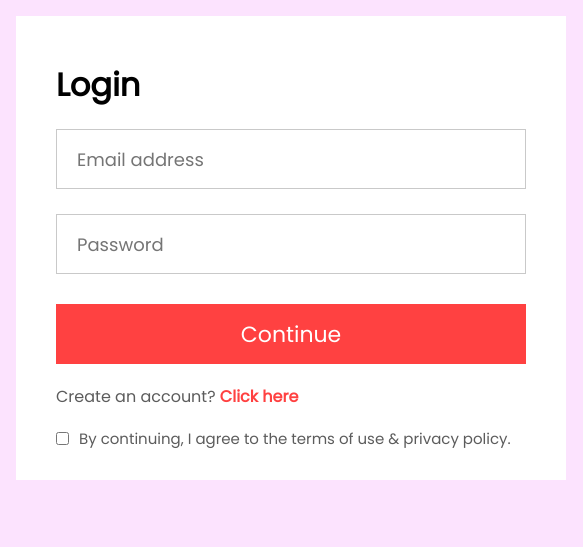
Test: LoginSignup Component › validates email input
Test invalid email
Step 1. Type "invalidemail" into the field with placeholder "Email address" → point(291, 159), box [56,129,526,189]
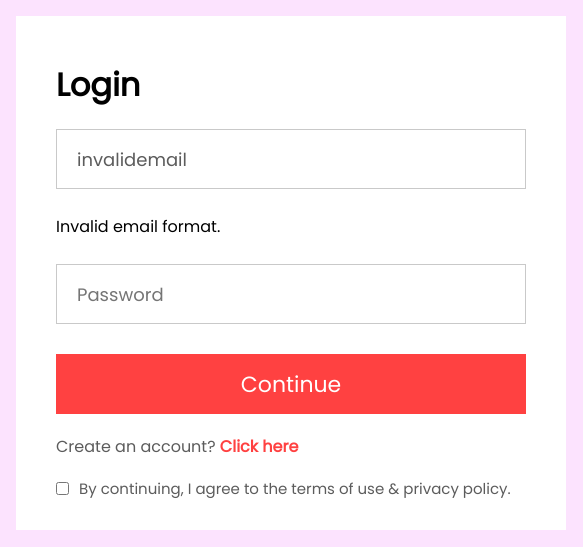
Result: the text "Invalid email format." is shown at [56,215,220,238]
Test valid email
Step 2. Replace the text in the field with placeholder "Email address" with "valid@example.com" → point(291, 159), box [56,129,526,189]
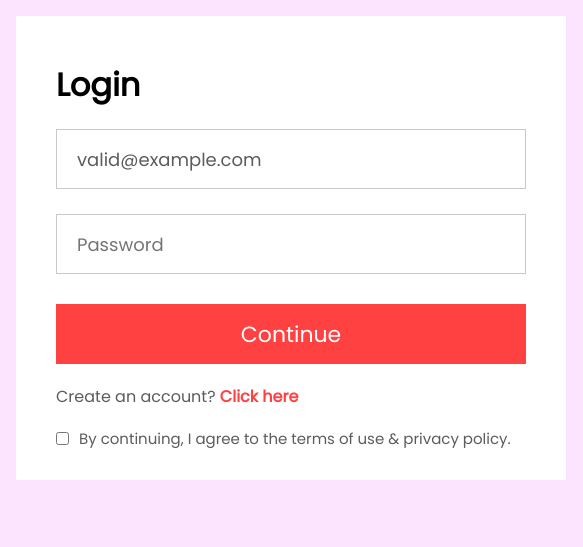
Result: the text "Invalid email format." is gone
